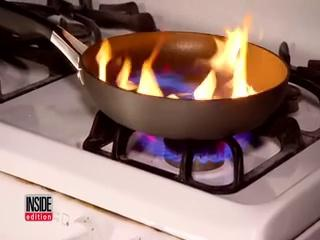Fire: (96, 15, 265, 102)
